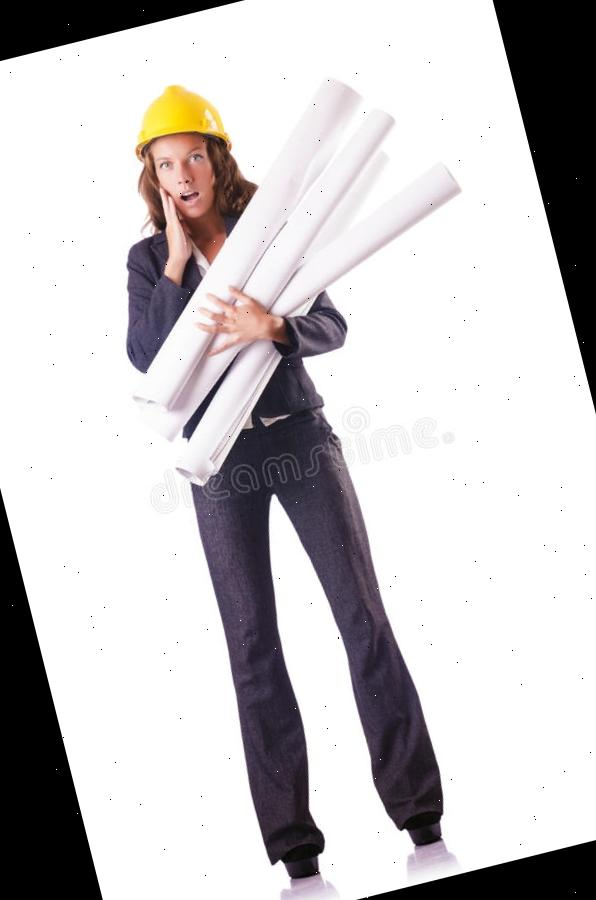helmet: (122, 70, 235, 168)
no_wear: (94, 221, 230, 383)
